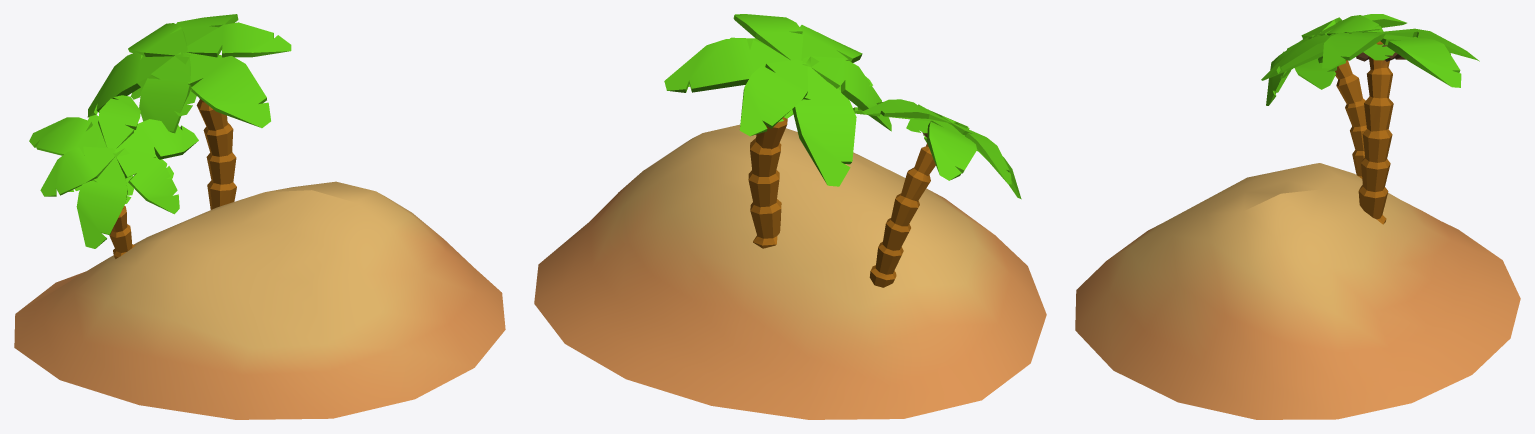
File: Island3.fbx
3 views of the same model, side by side, from view 1: azimuth 30°, elevation 25°; view 2: azimuth 150°, elevation 25°; view 3: azimuth 270°, elevation 25° (orthographic). The views are drawn at different scales.
Visible parts, largest first — view 1: Island3; view 2: Island3; view 3: Island3.
Boxes of the visible parts, x1=… form: Island3: x1=14, y1=14, x2=505, y2=419; Island3: x1=534, y1=14, x2=1046, y2=419; Island3: x1=1075, y1=14, x2=1520, y2=419.
Bounding box in the file's own units: 1.78 × 1.12 × 1.61.
